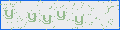y: (4, 9, 14, 20), (42, 14, 52, 25), (56, 10, 66, 21), (74, 15, 84, 26), (28, 13, 36, 23)
